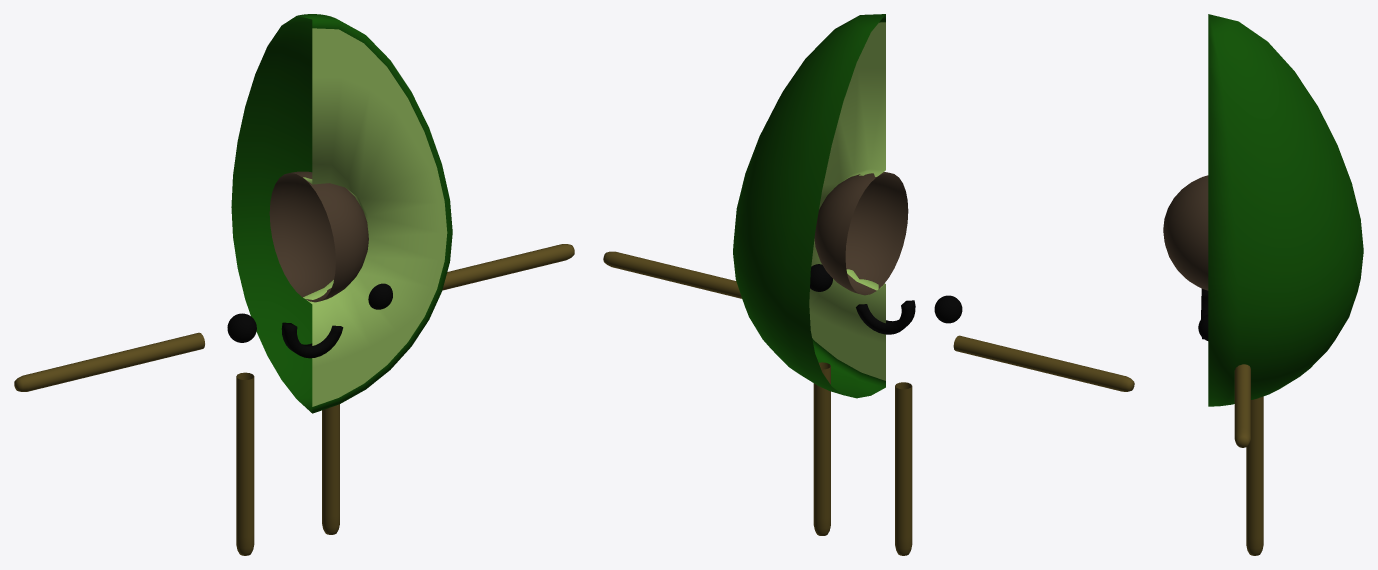
Rendered from Gauca.glb.
3 renders of one model, left to right at view 1: azimuth 30°, elevation 25°; view 2: azimuth 150°, elevation 25°; view 3: azimuth 270°, elevation 25°, orthographic. The views are drawn at different scales.
Parts seen in each view (by area): view 1: Sphere, Cylinder.001, Sphere.001, Circle, Sphere.003; view 2: Sphere, Cylinder.001, Sphere.001, Circle; view 3: Sphere, Sphere.001, Cylinder.001.
Part boxes in pixels (<box>): Sphere: <box>231,14,452,413</box>; Cylinder.001: <box>14,244,574,555</box>; Sphere.001: <box>269,171,368,302</box>; Circle: <box>281,322,343,358</box>; Sphere.003: <box>227,313,256,342</box>; Sphere: <box>733,14,885,398</box>; Cylinder.001: <box>603,251,1134,555</box>; Sphere.001: <box>814,172,908,295</box>; Circle: <box>856,300,915,334</box>; Sphere: <box>1208,14,1363,406</box>; Sphere.001: <box>1163,175,1208,290</box>; Cylinder.001: <box>1234,364,1263,555</box>.
Bounding box in the file's own units: 3.97 × 3.7 × 1.29.
